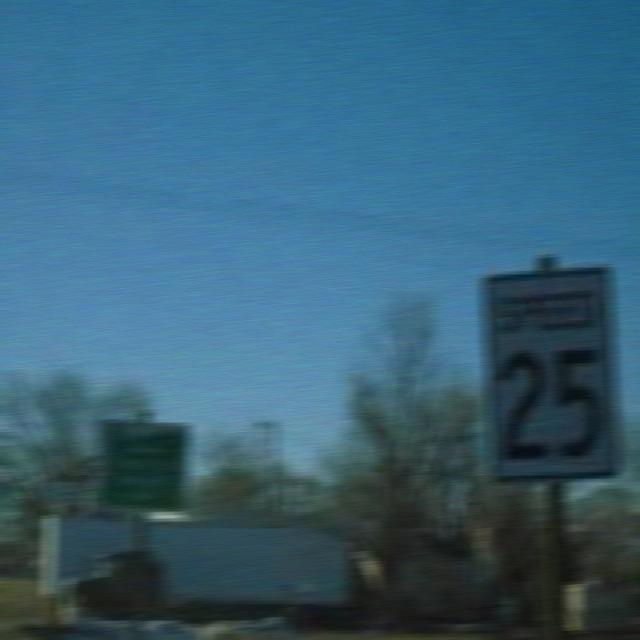speedLimit25: (478, 266, 612, 483)
